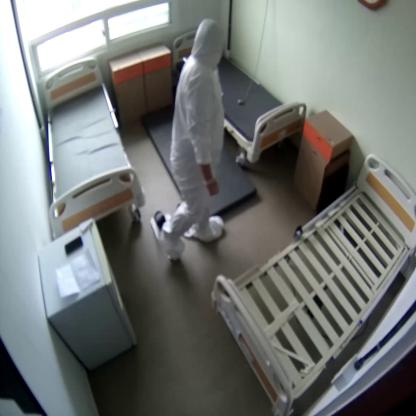Person: (163, 21, 225, 258)
